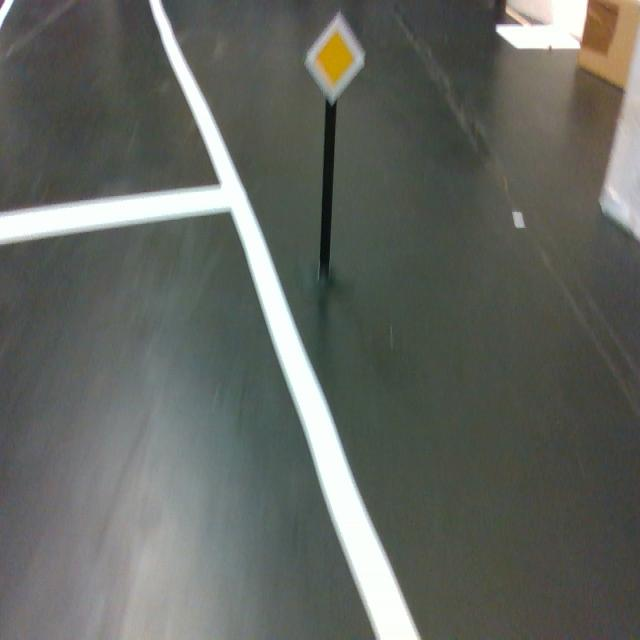priority-sign: (302, 8, 368, 108)
